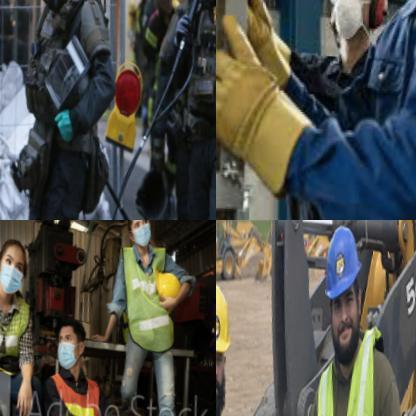Boots: (321, 222, 364, 303)
Glass: (301, 328, 410, 415), (122, 245, 178, 352), (42, 369, 102, 415), (0, 292, 32, 373)
